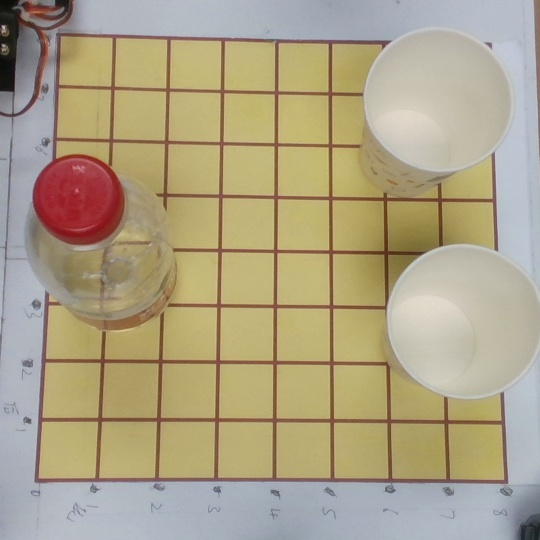bottle: (20, 155, 185, 336)
cup: (352, 28, 501, 199), (379, 243, 539, 402)
